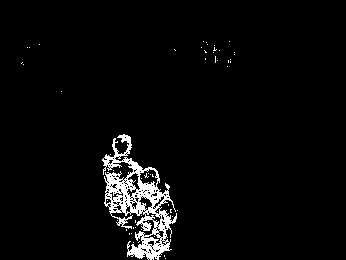person: (124, 165, 178, 260), (101, 132, 140, 233)
